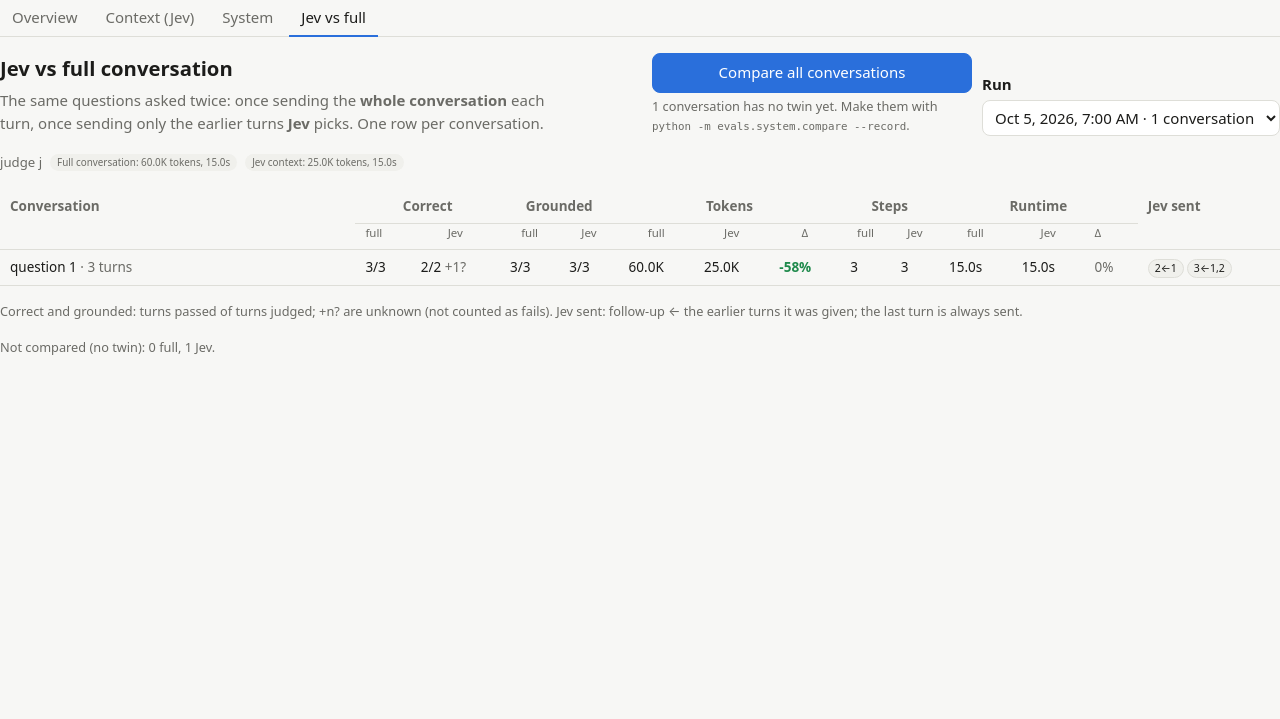
it: Jev vs full › opens a conversation turn by turn, with both answers and steps
The image size is (1280, 719).
What coordinates should you click on to do the following:
click the row that starts with "question 1"
I would click on:
 (640, 268)
Its box is left=0, top=250, right=1279, bottom=286.
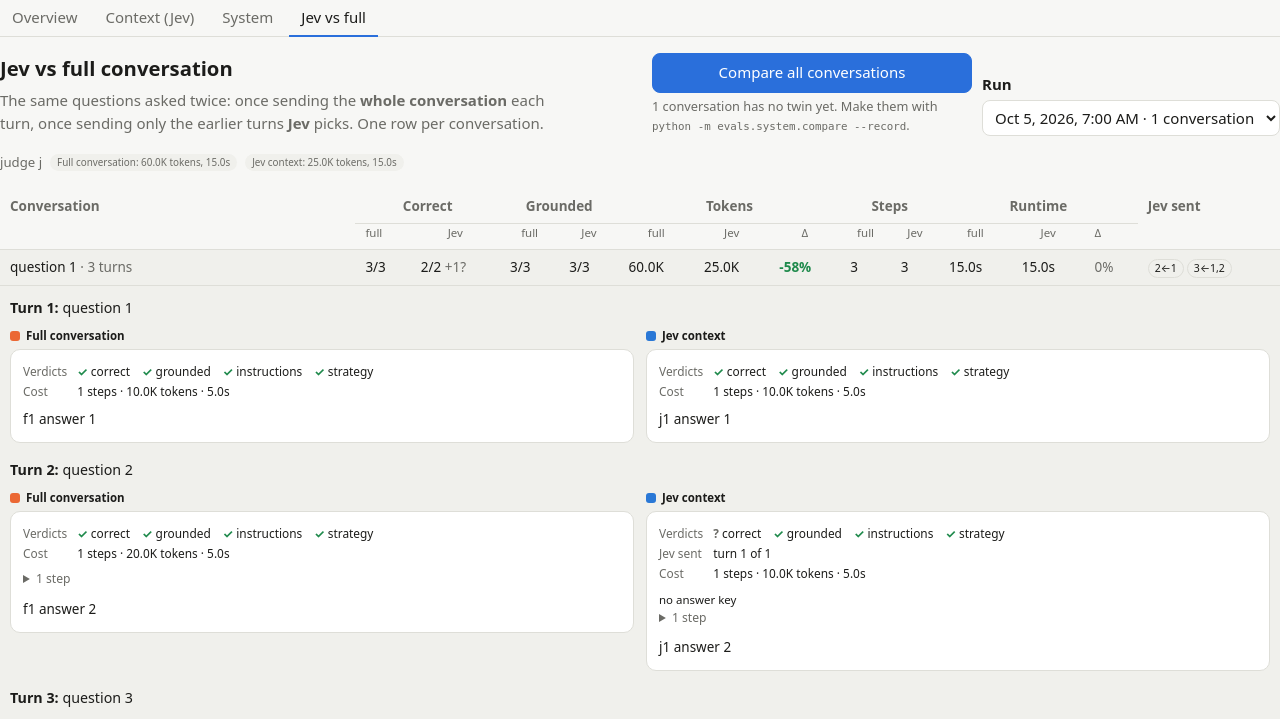
Expected: the text "f1 answer 2" is shown, left=23, top=600, right=96, bottom=618
Expected: the text "j1 answer 2" is shown, left=659, top=638, right=731, bottom=656
Expected: the text "no answer key" is shown, left=659, top=592, right=736, bottom=607
